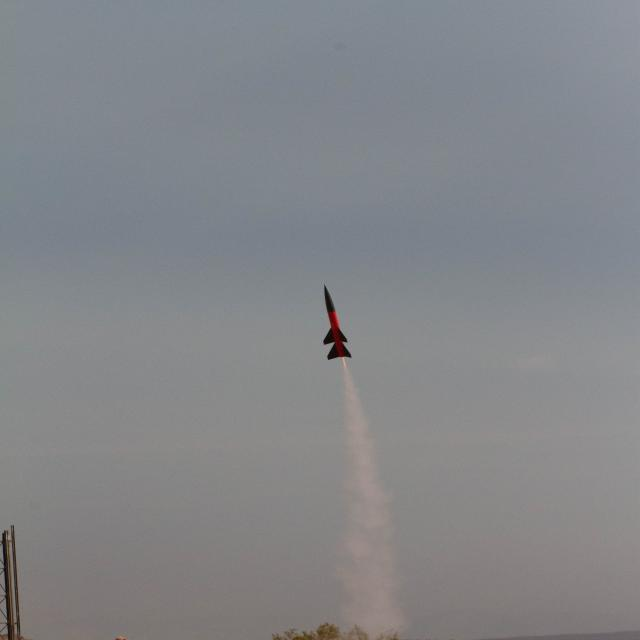Rocket: (322, 284, 352, 360)
